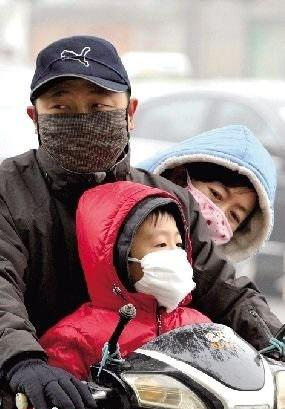OK: (42, 91, 118, 167), (189, 174, 264, 249), (123, 230, 194, 301)
